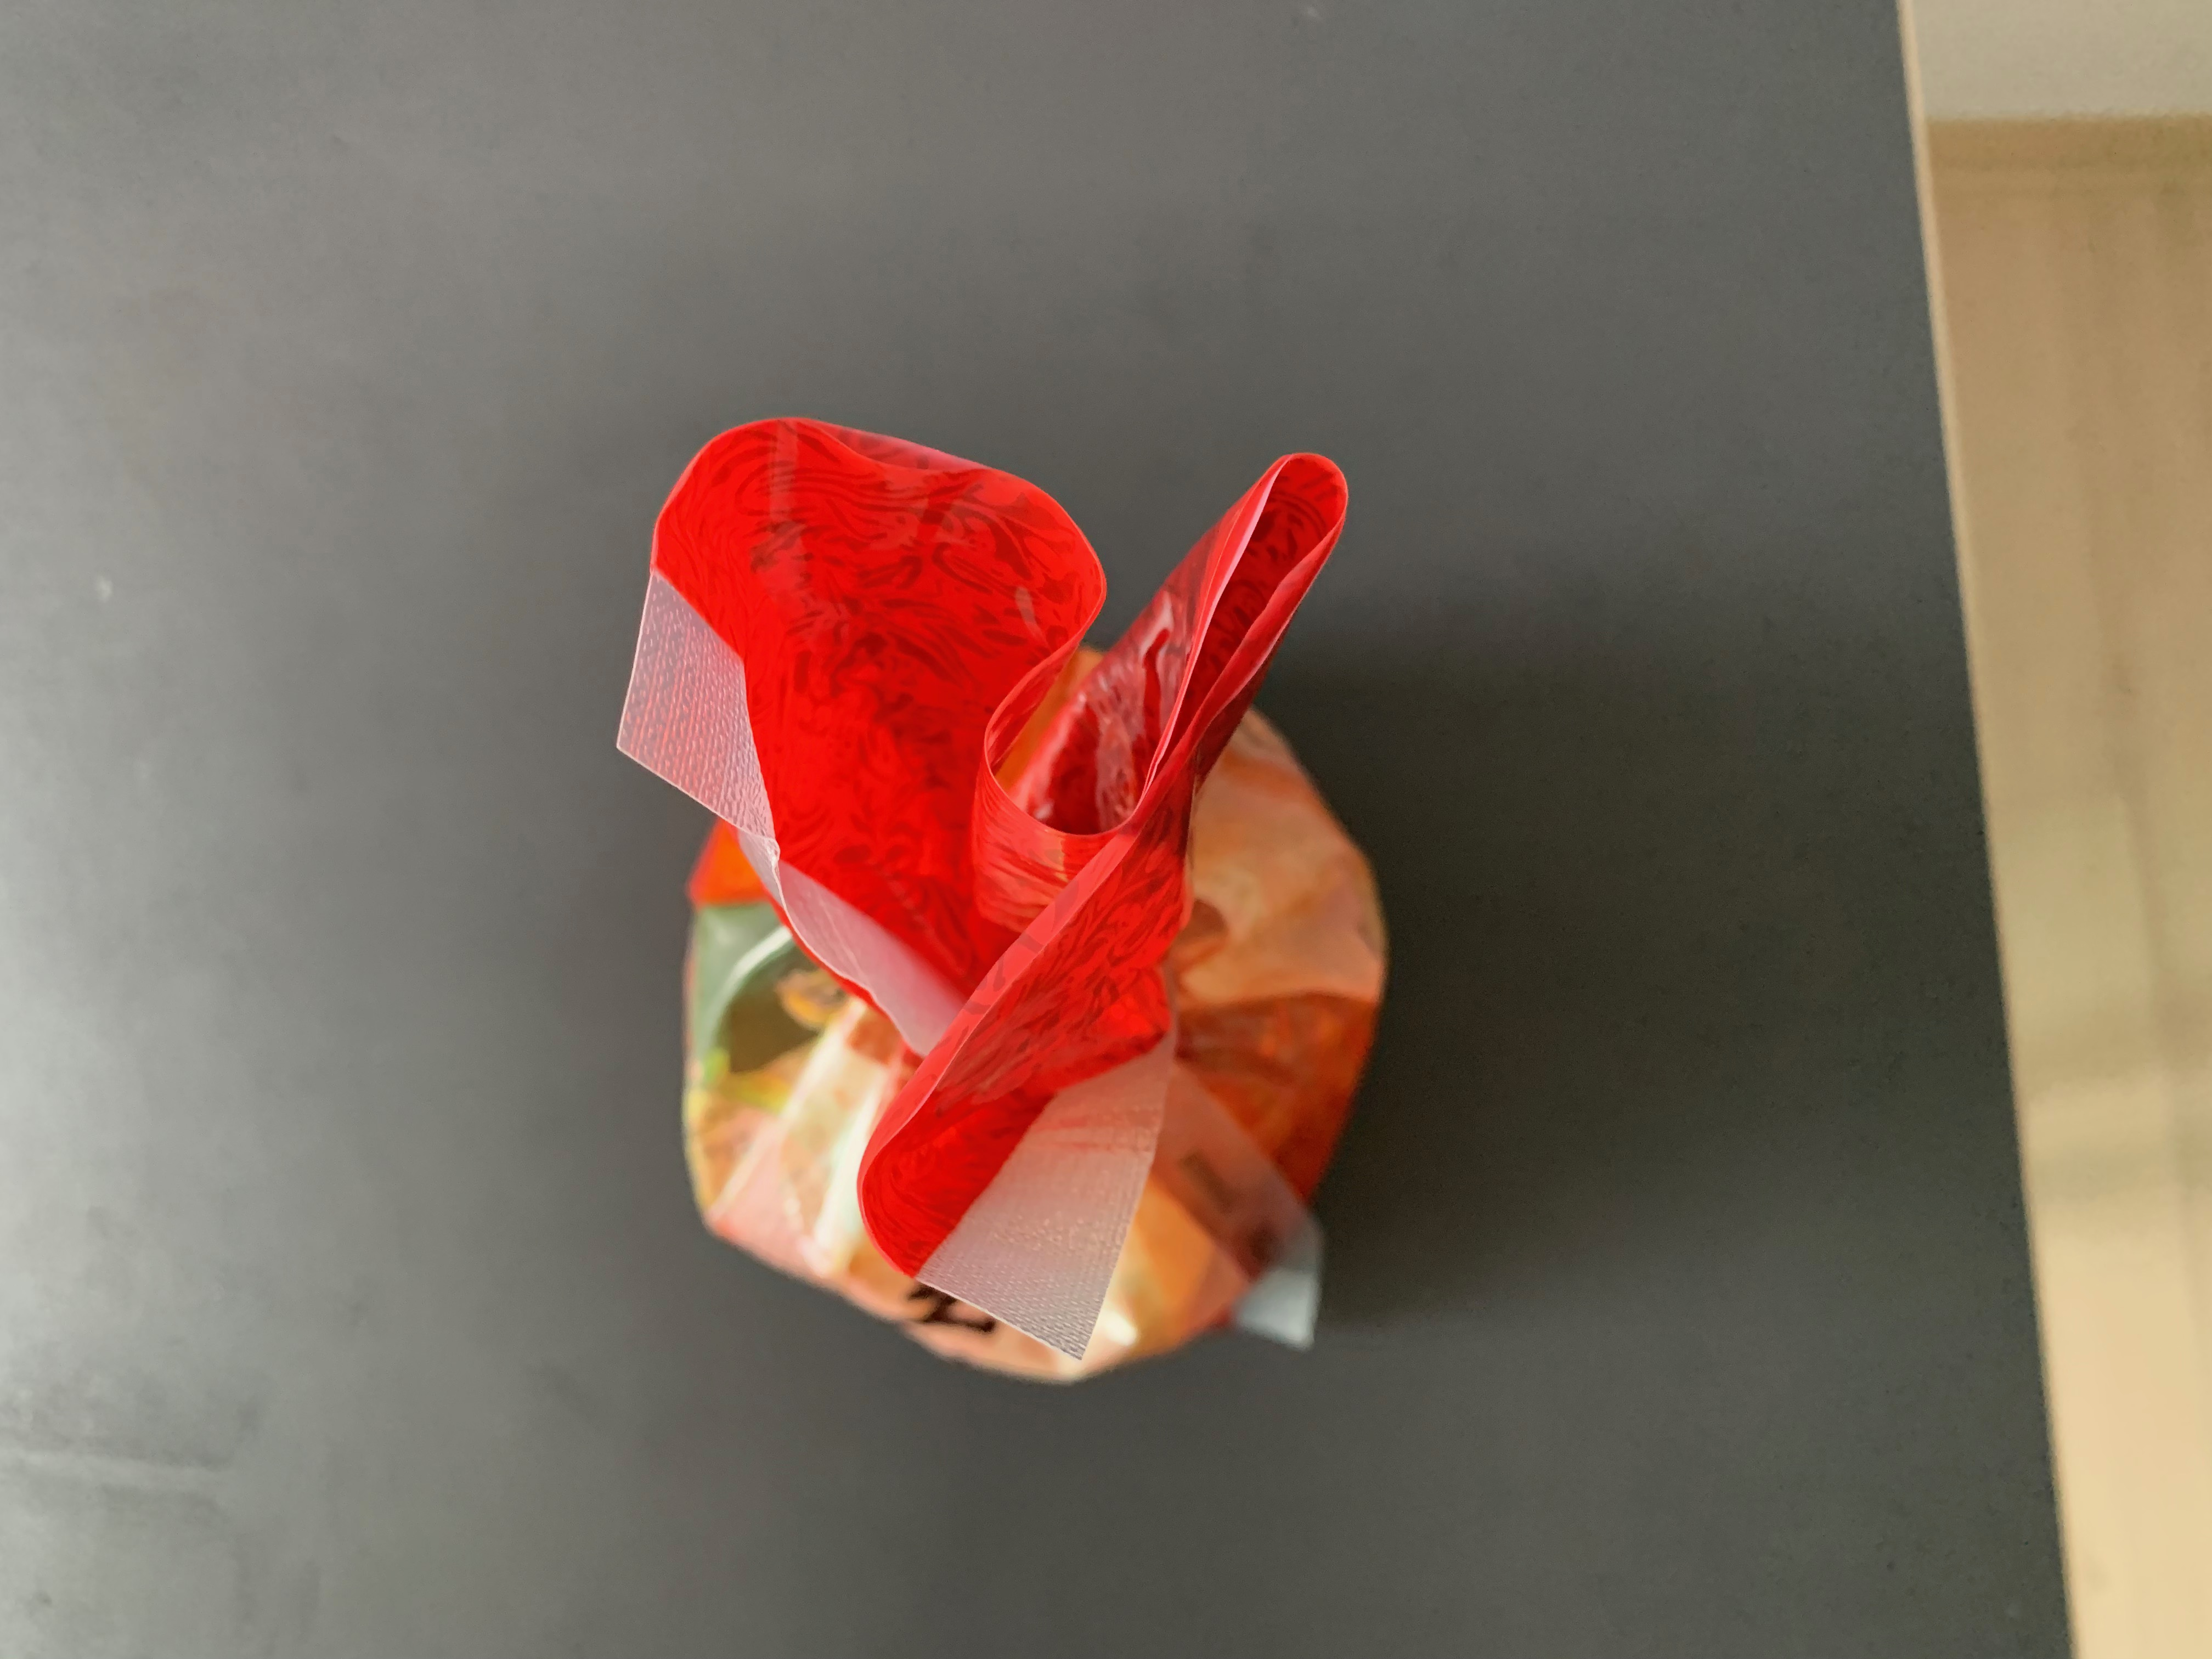kimchi: (665, 423, 1393, 1385)
